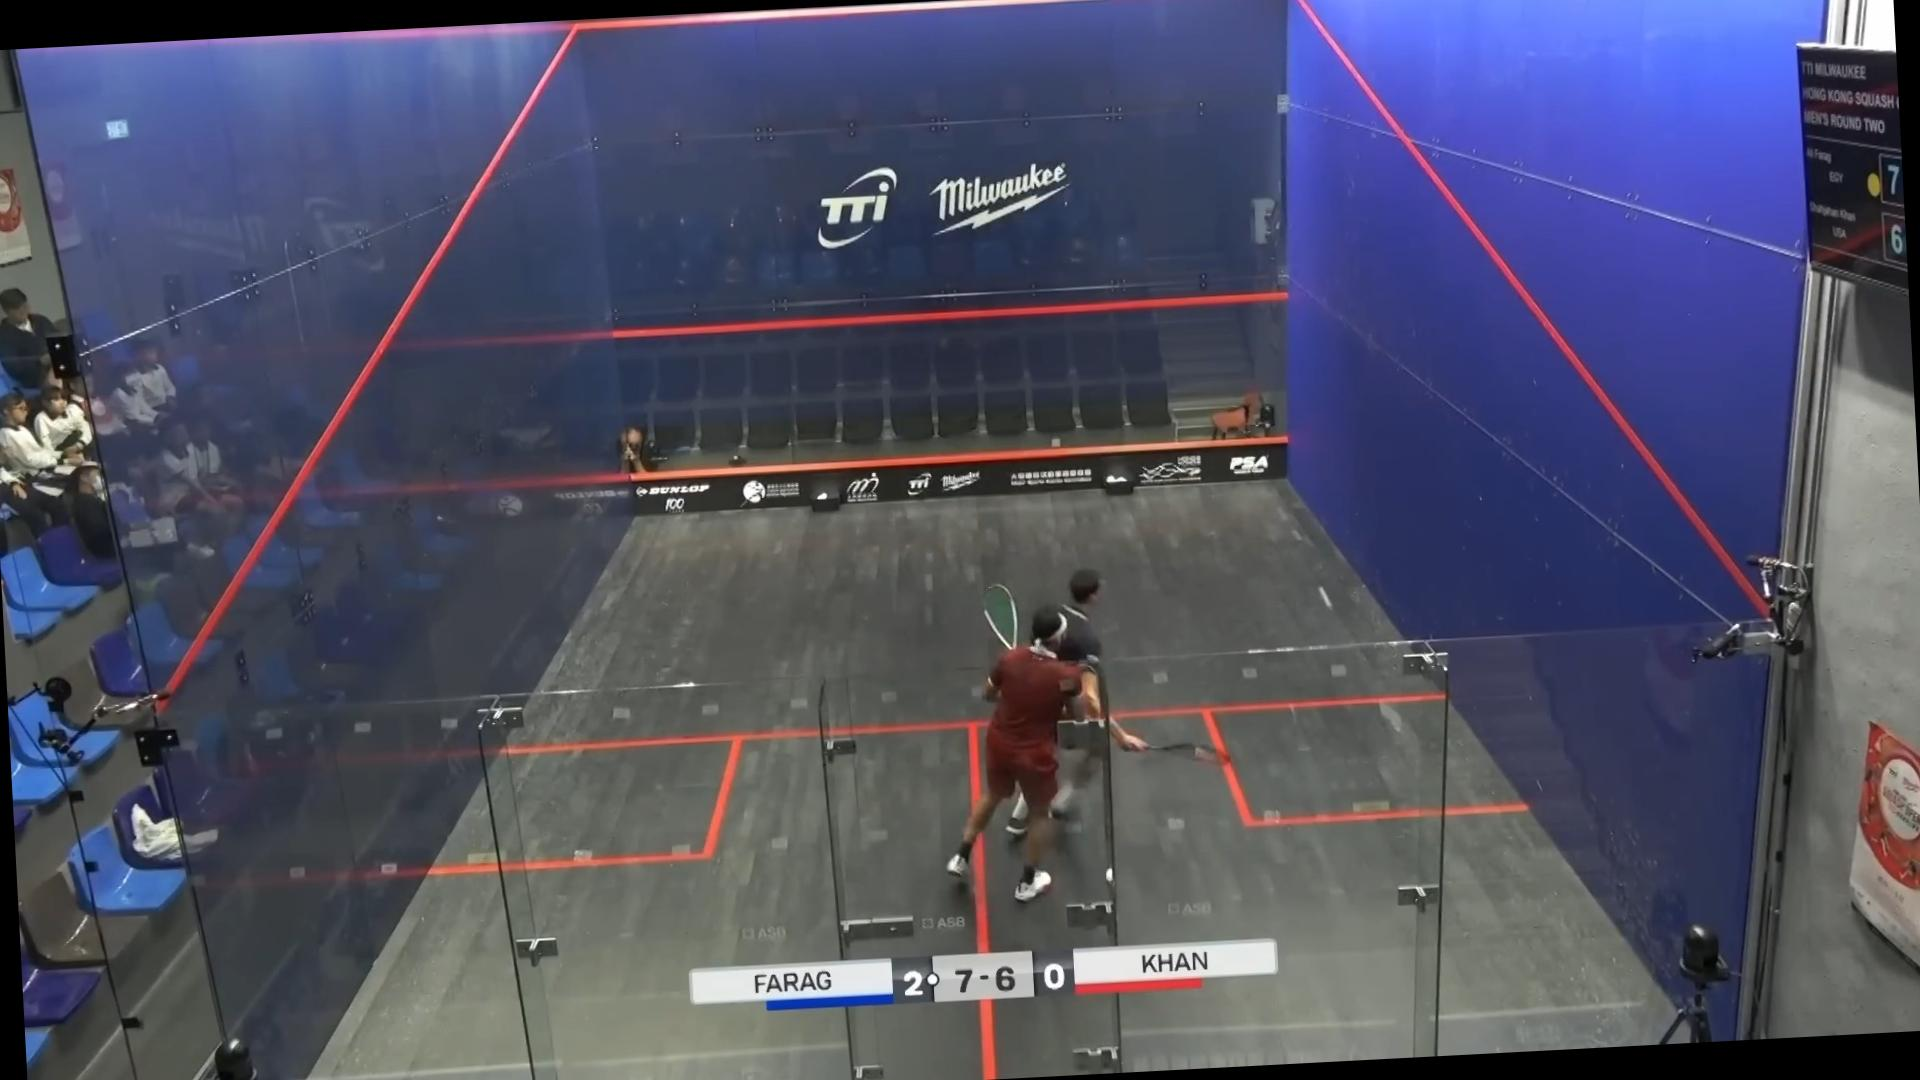Racket: (1110, 724, 1237, 778), (977, 582, 1019, 650)
